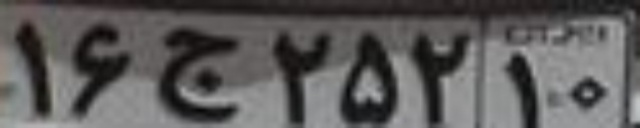0: (564, 74, 612, 110)
1: (15, 21, 51, 115), (505, 50, 546, 126)
2: (270, 29, 331, 123), (411, 28, 465, 126)
5: (337, 29, 405, 122)
6: (62, 22, 131, 119)
jim: (152, 27, 244, 120)
